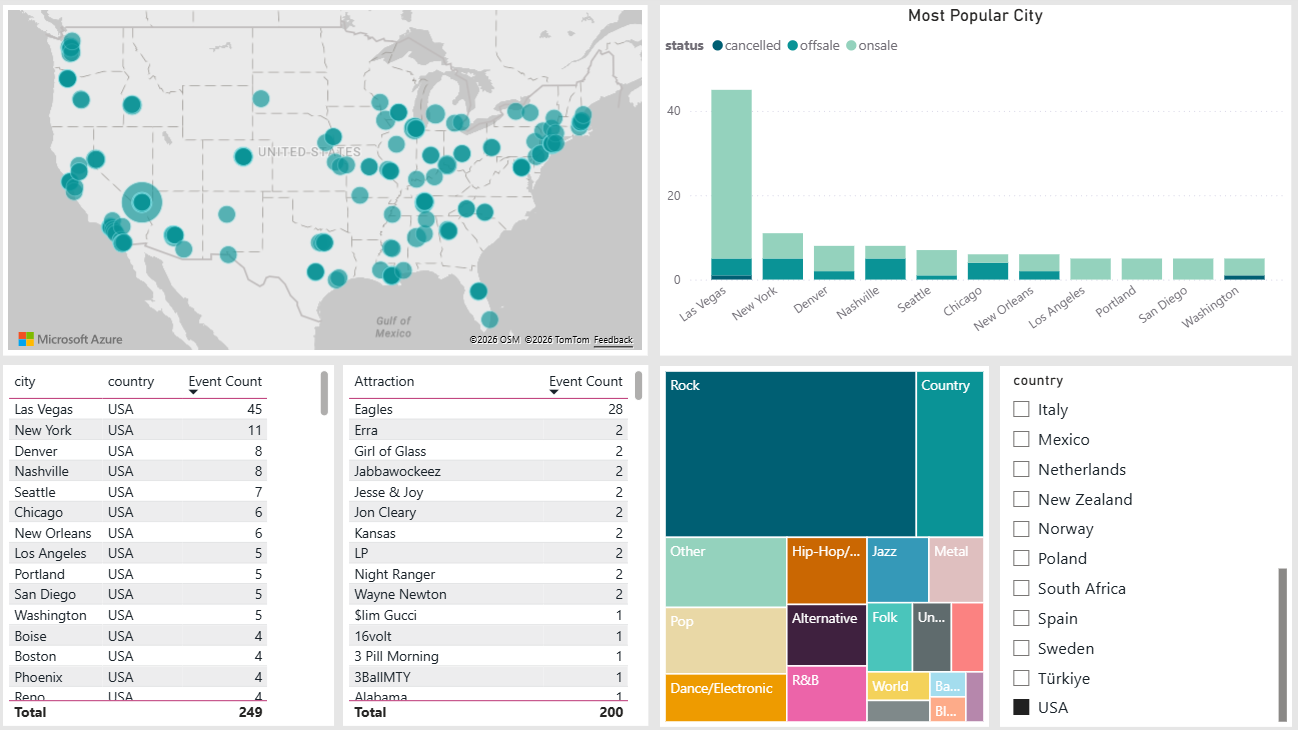

The dashboard page shown, as its layout file describes it:
{"tool":"powerbi","page":{"name":"Event Coverage","canvas":[1280,720],"ordinal":1},"visuals":[{"type":"azureMap","fields":{"X":["dim_venues.longitude"],"Y":["dim_venues.latitude"],"Size":["CountNonNull(fct_events.event_id)"],"Series":["fct_events.segment Hierarchy.segment"]},"box":[17.5,9.7,627.4,341.4],"z":0},{"type":"treemap","fields":{"Group":["fct_events.segment Hierarchy.segment","fct_events.segment Hierarchy.genre","fct_events.segment Hierarchy.subgenre"],"Values":["_measures.Event Count"]},"box":[656.5,360.9,320,351.1],"z":1000},{"type":"tableEx","fields":{"Values":["dim_venues.city","dim_country.country","_measures.Event Count"]},"box":[17.5,359.9,321.9,351.1],"z":2000},{"type":"columnChart","title":"Most Popular City","fields":{"Category":["dim_venues.city"],"Y":["_measures.Event Count"],"Series":["fct_events.status"]},"box":[656.5,9.7,613.7,341.4],"z":3000},{"type":"slicer","fields":{"Values":["dim_country.country"]},"box":[987.2,360.9,284,351.1],"z":4000},{"type":"tableEx","fields":{"Values":["dim_attractions.name","_measures.Event Count"]},"box":[348.2,359.9,296.7,351.1],"z":5000}]}

Visuals, with their boxes in screenshot pixels (x1, y1, x2, y2), scaled from the page's 1280x720 canvas onto the 1298x730 screenshot:
azureMap - dim_venues.longitude x dim_venues.latitude: 18, 10, 654, 356
treemap - fct_events.segment Hierarchy.segment x fct_events.segment Hierarchy.genre: 666, 366, 990, 722
tableEx - dim_venues.city x dim_country.country: 18, 365, 344, 721
"Most Popular City" columnChart: 666, 10, 1288, 356
slicer - dim_country.country: 1001, 366, 1289, 722
tableEx - dim_attractions.name x _measures.Event Count: 353, 365, 654, 721
